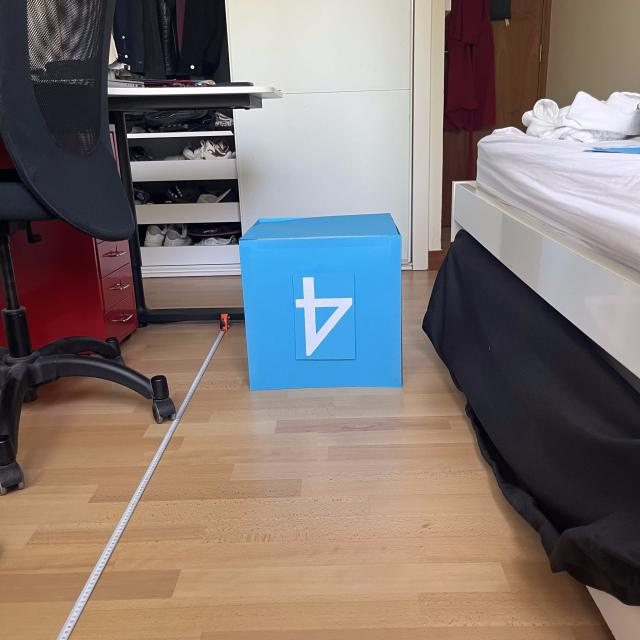box: (234, 209, 406, 392)
